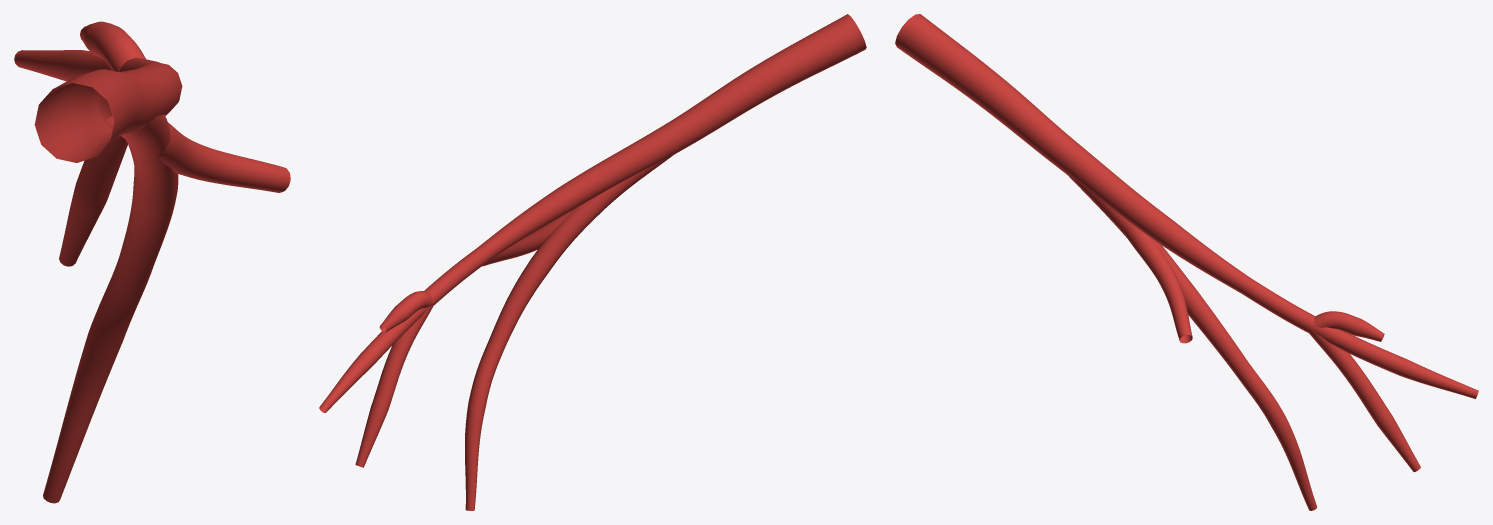
3 renders of one model, left to right at view 1: azimuth 30°, elevation 25°; view 2: azimuth 150°, elevation 25°; view 3: azimuth 270°, elevation 25°, orthographic. The views are drawn at different scales.
Parts seen in each view (by area): view 1: 左肺外侧底段动脉; view 2: 左肺外侧底段动脉; view 3: 左肺外侧底段动脉.
Part boxes in pixels (box(x1,y1,x2,y2)): 左肺外侧底段动脉: box(14, 21, 290, 503); 左肺外侧底段动脉: box(319, 14, 866, 510); 左肺外侧底段动脉: box(895, 14, 1478, 510).
Size of the model in its own units: 0.1033 by 0.1443 by 0.1892.
